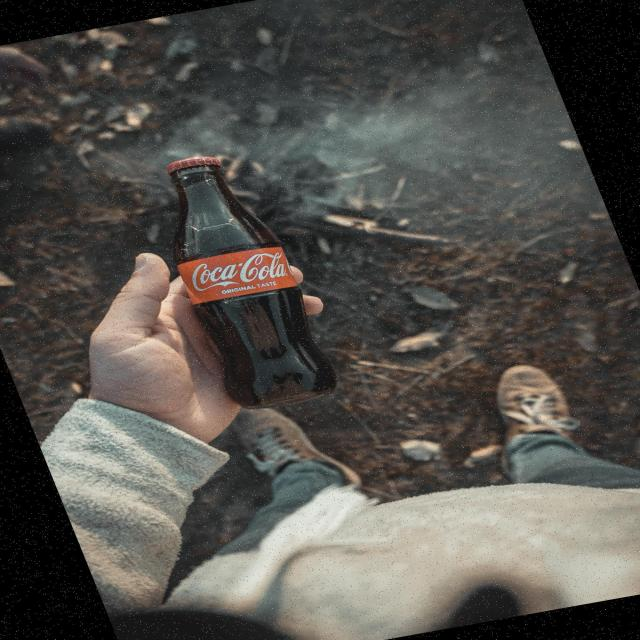coca-cola: (185, 247, 301, 298)
